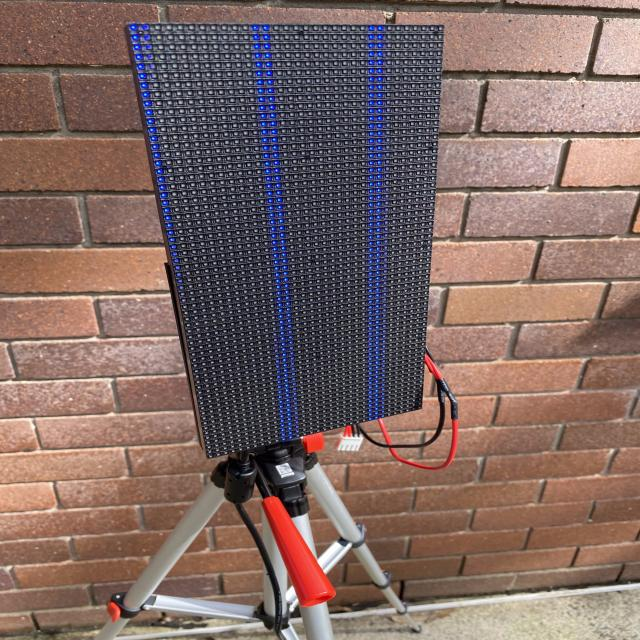matrix: (108, 10, 476, 465)
